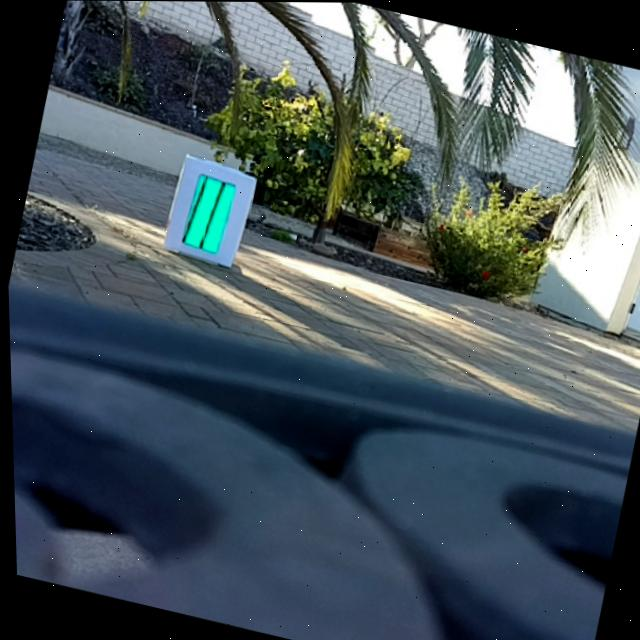led: (176, 172, 237, 255)
